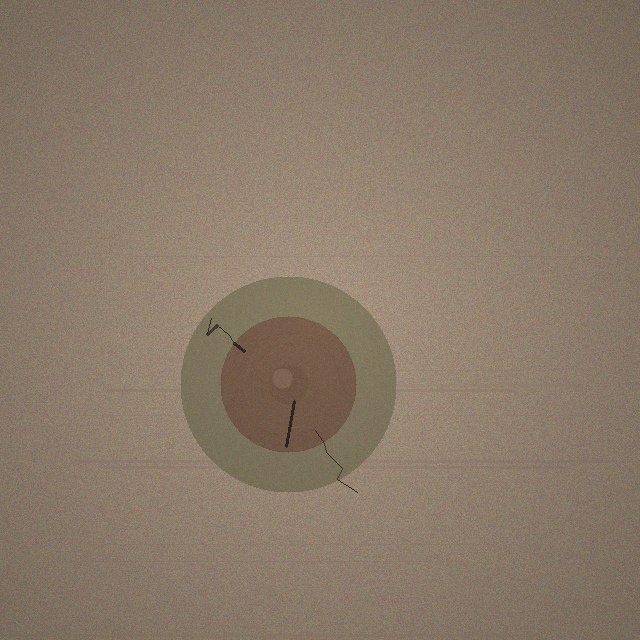crack: (180, 276, 396, 492)
